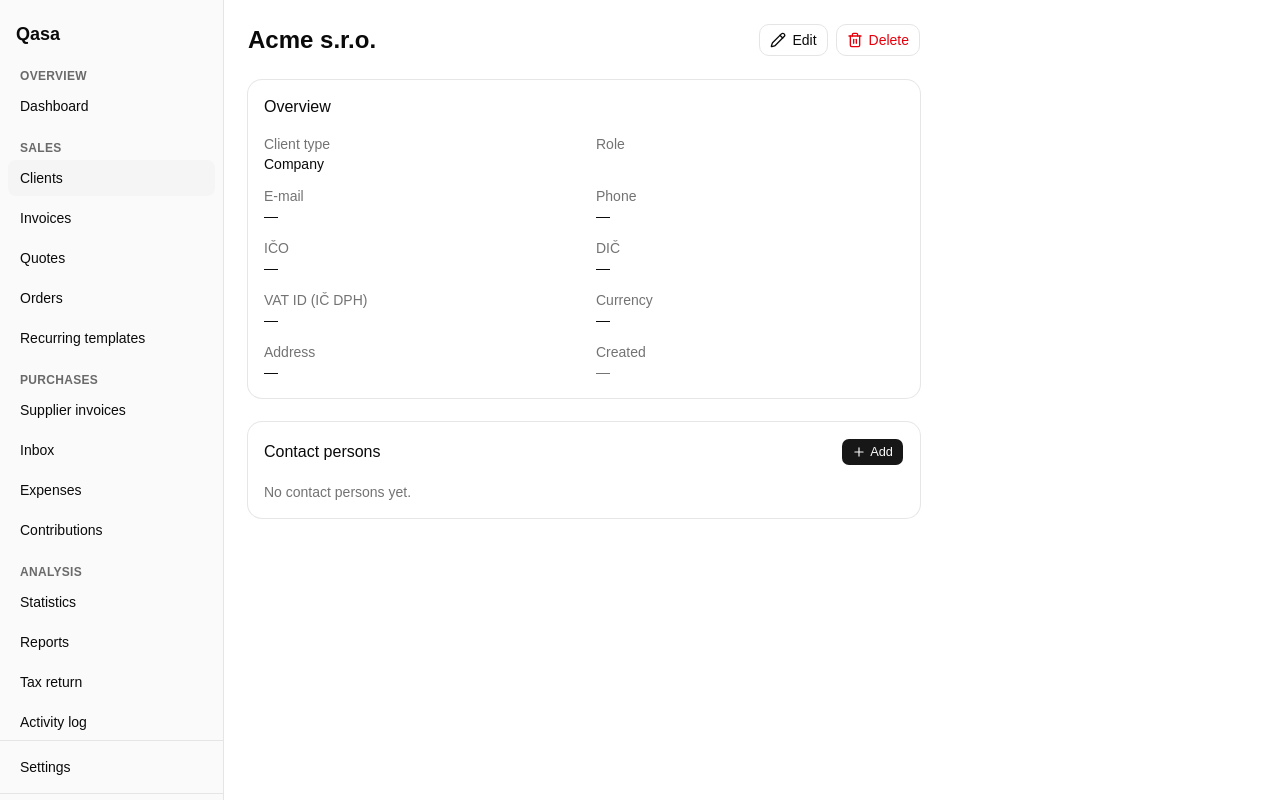
Scenario: client detail › adds a contact person through the dialog
Expected: the text "No contact persons yet." is shown, x1=264 y1=484 x2=411 y2=500
Click the button "Add" at coordinates (873, 452), box x1=841 y1=438 x2=904 y2=466
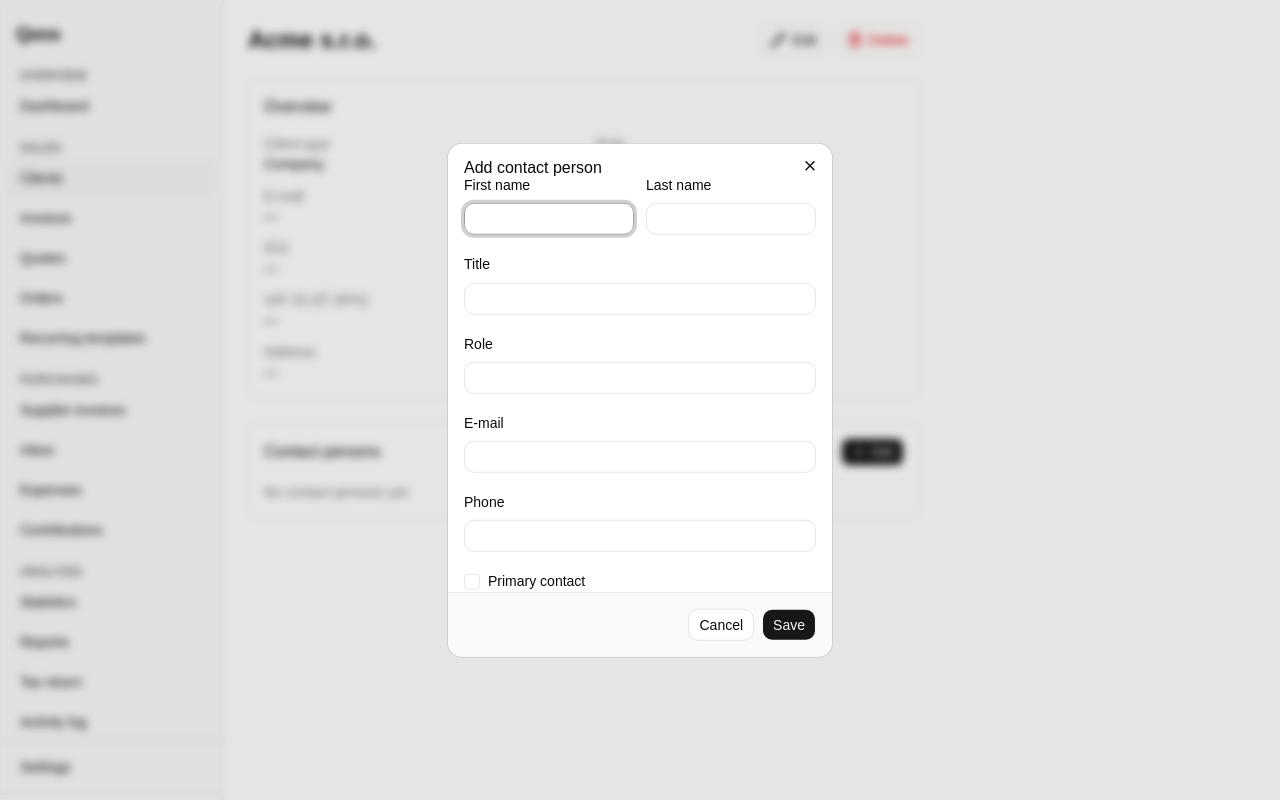
Type "Jane" into the field labelled "First name" at coordinates (549, 219), box x1=464 y1=203 x2=634 y2=235
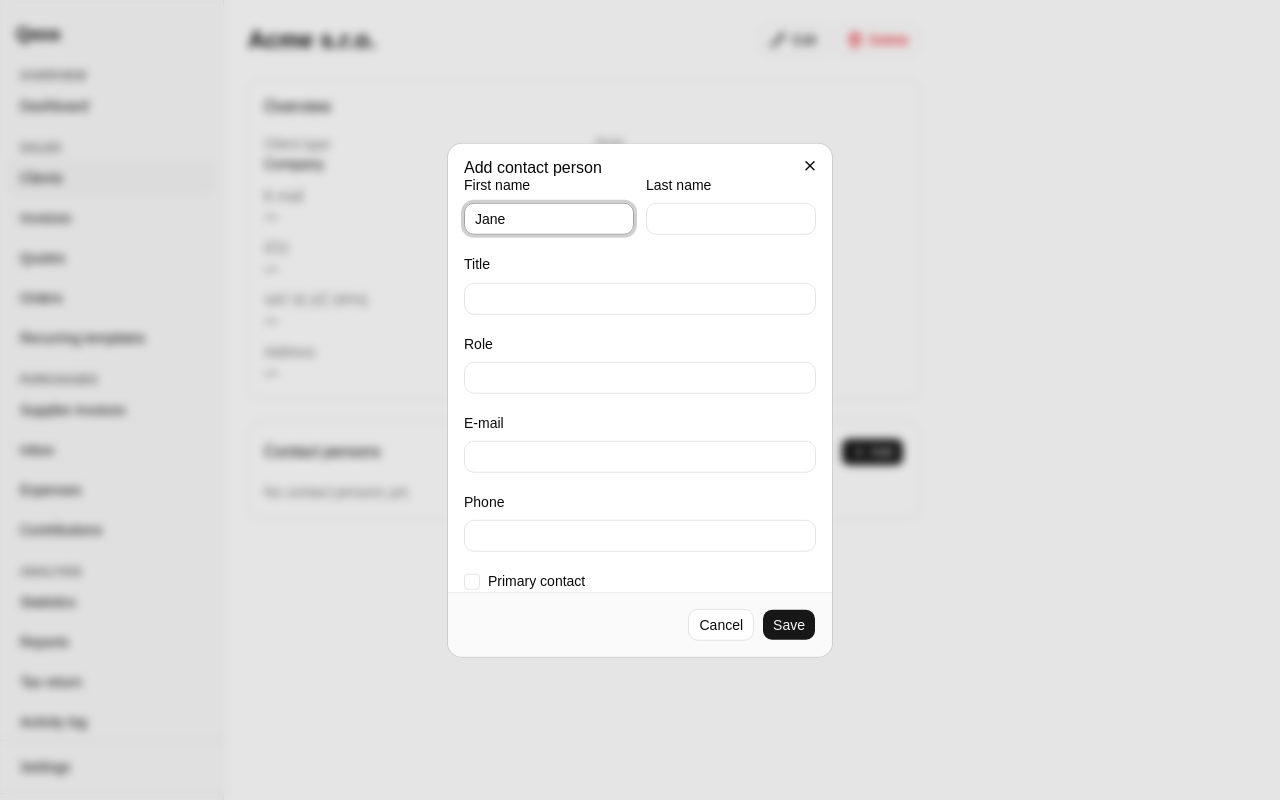
Type "Roe" into the field labelled "Last name" at coordinates (731, 219), box x1=646 y1=203 x2=816 y2=235
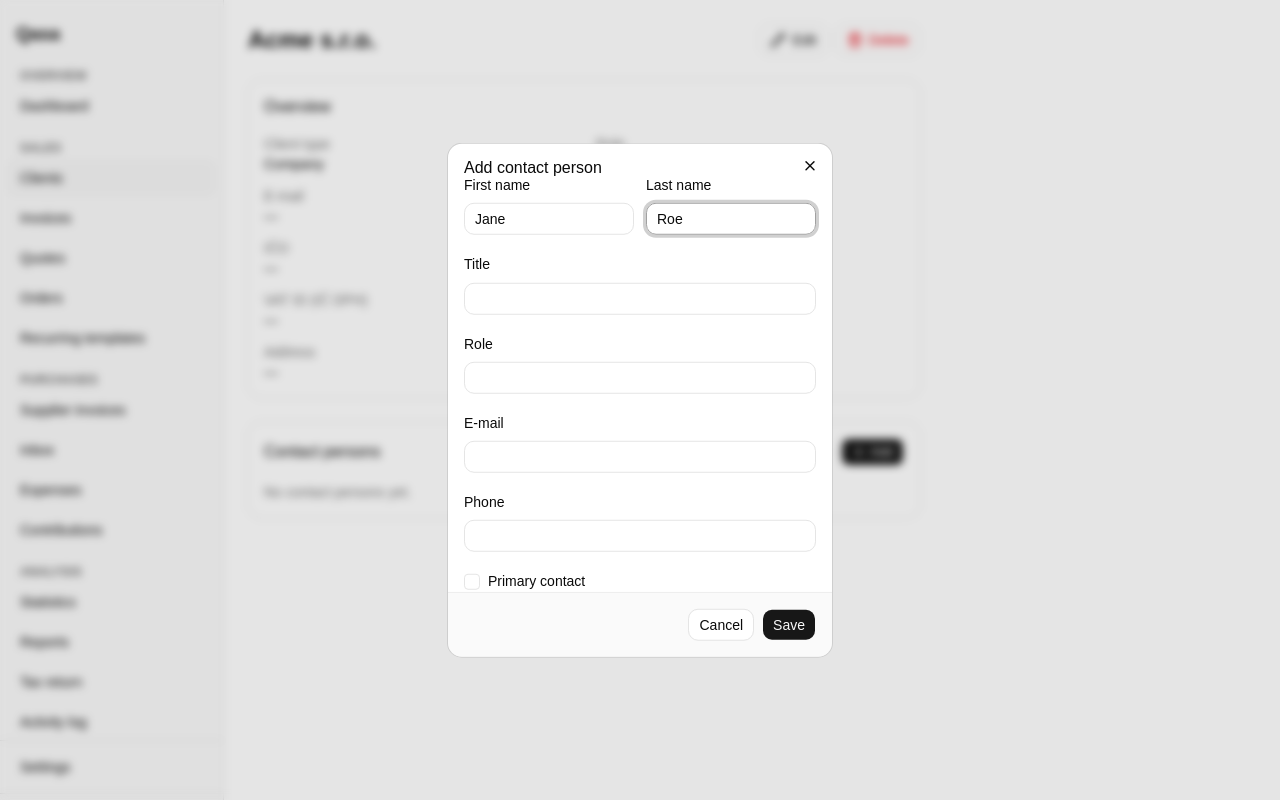
Click the button "Save" at coordinates (789, 624), box x1=762 y1=608 x2=816 y2=640
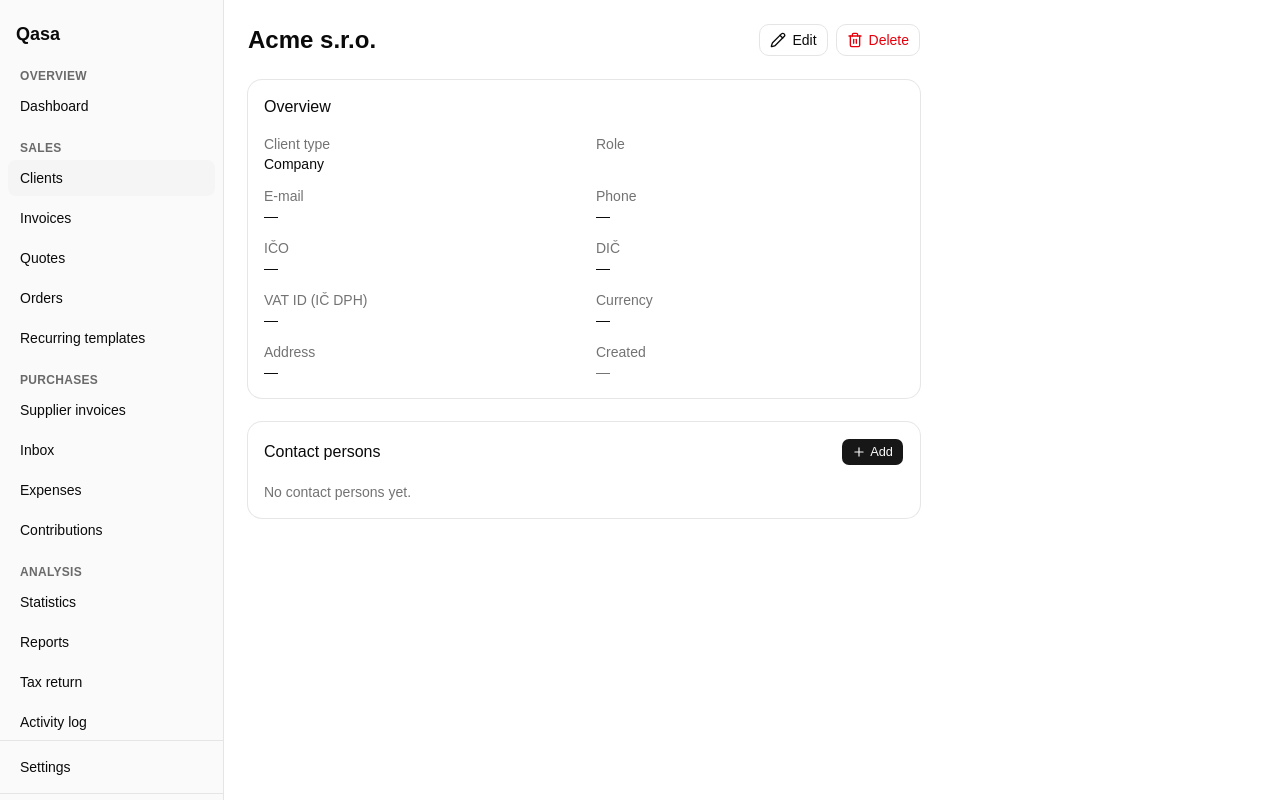
Expected: the dialog is gone
